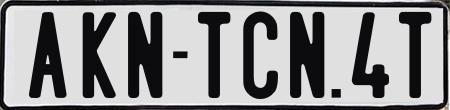4: (349, 11, 391, 100)
A: (27, 11, 68, 97)
C: (243, 9, 283, 98)
K: (81, 10, 118, 97)
N: (289, 11, 327, 101), (127, 9, 162, 100)
T: (398, 9, 430, 101), (198, 12, 230, 103)
